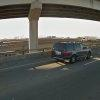Car: (48, 34, 94, 70)
